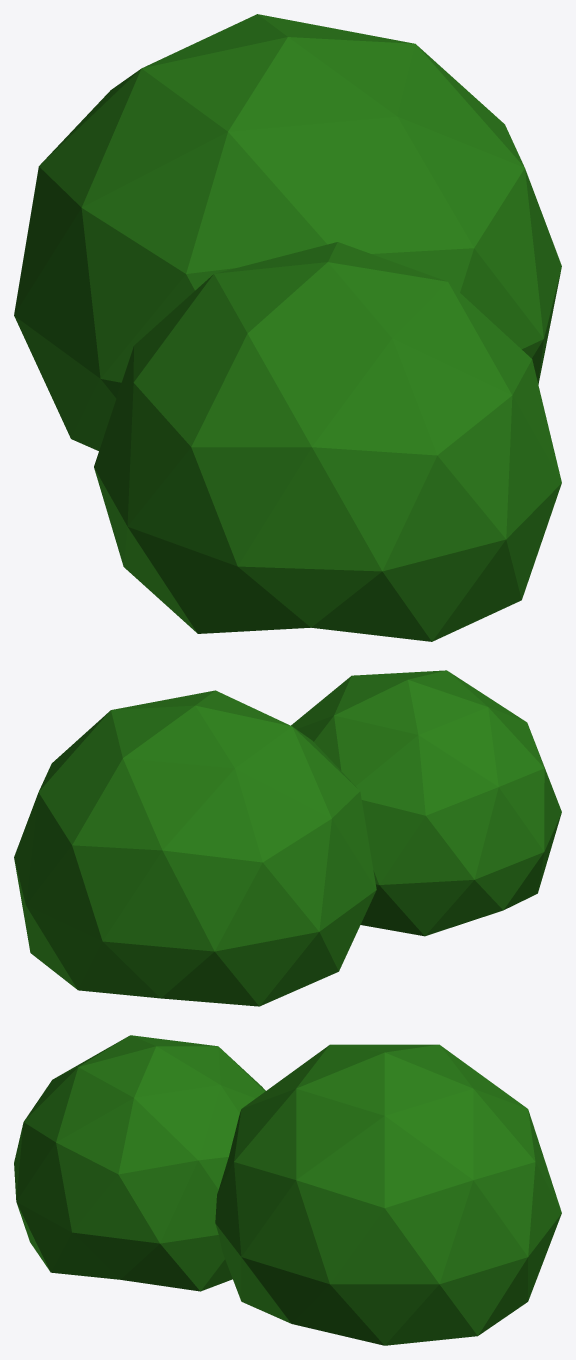
The model's file is Busch.fbx.
3 renders of one model, top to bottom at view 1: azimuth 30°, elevation 25°; view 2: azimuth 150°, elevation 25°; view 3: azimuth 270°, elevation 25°, orthographic. The views are drawn at different scales.
Visible parts, largest first — view 1: Icosphere; view 2: Icosphere; view 3: Icosphere.
Boxes of the visible parts, x1=… form: Icosphere: x1=14, y1=14, x2=561, y2=641; Icosphere: x1=14, y1=670, x2=561, y2=1006; Icosphere: x1=14, y1=1035, x2=561, y2=1345.
Size of the model in its own units: 237 by 145 by 309.
